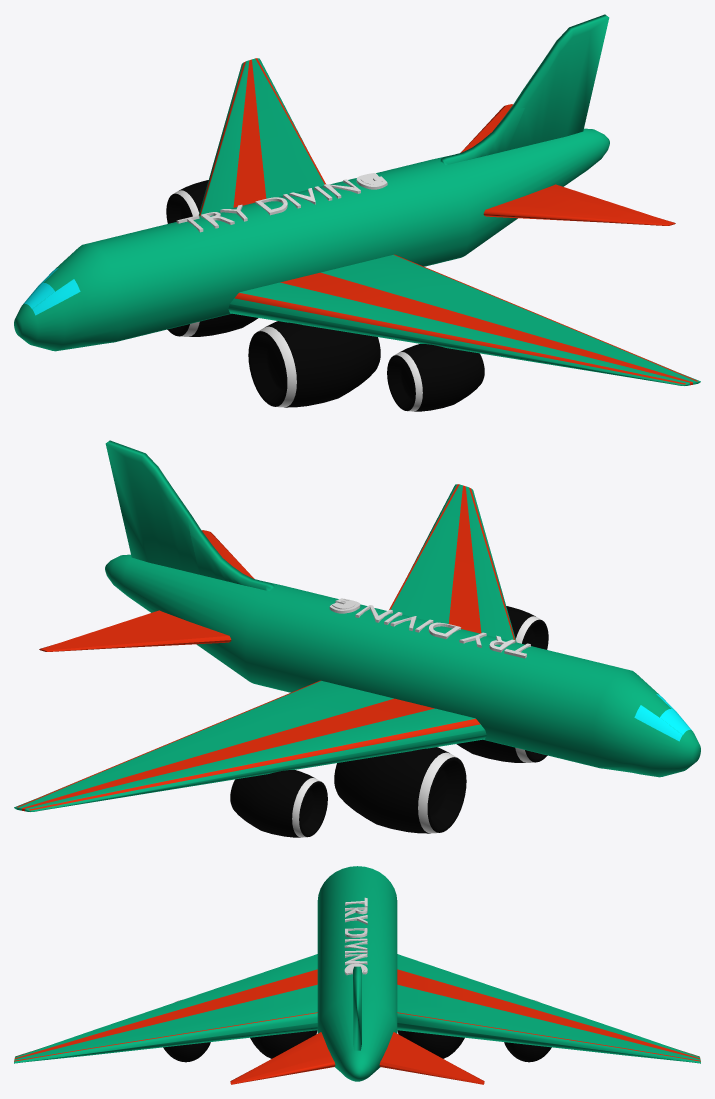
Rendered from aeroplane 4.fbx.
The picture shows the model from 3 angles, top to bottom: view 1: azimuth 30°, elevation 25°; view 2: azimuth 150°, elevation 25°; view 3: azimuth 270°, elevation 25°; orthographic projection. The views are drawn at different scales.
Visible parts, largest first — view 1: Cylinder, Cube.001, Cube.003, Cylinder.001, Cube, Cylinder.002, Cube.002, Text.001, Cylinder.004, Cylinder.003; view 2: Cylinder, Cube.003, Cube.001, Cylinder.004, Cube, Cylinder.003, Cube.004, Text.001, Cylinder.001, Cylinder.002; view 3: Cylinder, Cube.001, Cube.003, Cube.002, Cube.004, Text.001, Cylinder.001, Cylinder.004, Cube, Cylinder.002, Cylinder.003.
Part boxes in pixels (<box>): Cylinder: <box>14,128,609,351</box>; Cube.001: <box>228,254,700,385</box>; Cube.003: <box>198,58,325,215</box>; Cylinder.001: <box>248,321,380,407</box>; Cube: <box>440,14,609,164</box>; Cylinder.002: <box>387,344,484,411</box>; Cube.002: <box>483,184,675,225</box>; Text.001: <box>176,173,387,232</box>; Cylinder.004: <box>167,313,258,336</box>; Cylinder.003: <box>166,180,208,223</box>; Cylinder: <box>105,554,700,777</box>; Cube.003: <box>14,680,486,811</box>; Cube.001: <box>389,484,516,642</box>; Cylinder.004: <box>334,747,466,833</box>; Cube: <box>105,440,274,590</box>; Cylinder.003: <box>230,770,327,837</box>; Cube.004: <box>39,610,231,651</box>; Text.001: <box>329,598,530,658</box>; Cylinder.001: <box>456,739,547,762</box>; Cylinder.002: <box>506,606,548,649</box>; Cylinder: <box>317,866,397,1081</box>; Cube.001: <box>14,954,317,1063</box>; Cube.003: <box>397,954,700,1063</box>; Cube.002: <box>230,1032,335,1084</box>; Cube.004: <box>379,1032,484,1084</box>; Text.001: <box>344,897,367,975</box>; Cylinder.001: <box>250,1030,317,1058</box>; Cylinder.004: <box>397,1030,464,1058</box>; Cube: <box>353,966,361,1050</box>; Cylinder.002: <box>163,999,210,1062</box>; Cylinder.003: <box>504,999,551,1062</box>.
Bounding box in the file's own units: 2840 × 1220 × 3684.
